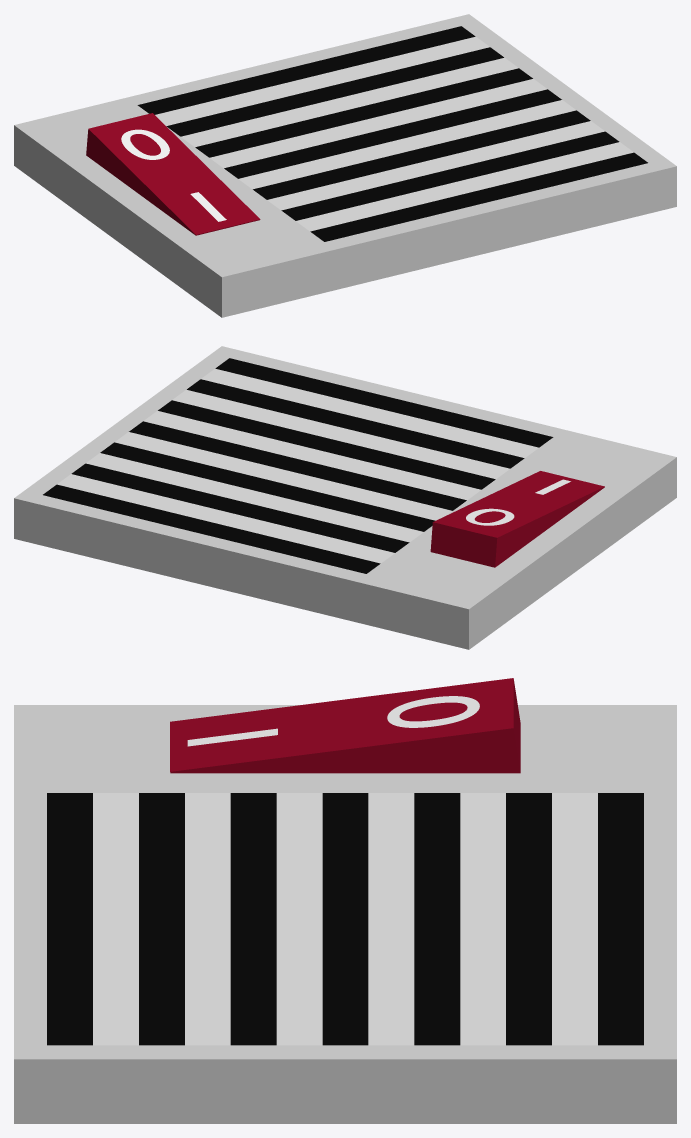
File: fan.glb
3 views of the same model, one above another, from view 1: azimuth 30°, elevation 25°; view 2: azimuth 150°, elevation 25°; view 3: azimuth 270°, elevation 25° (orthographic). The views are drawn at different scales.
Visible parts, largest first — view 1: Gaps, Plane, Plane.001, Text.001; view 2: Gaps, Plane, Plane.001; view 3: Gaps, Plane, Plane.001, Text.001.
Boxes of the visible parts, bbox=[...] form: Gaps: bbox=[137, 26, 647, 241]; Plane: bbox=[14, 14, 676, 317]; Plane.001: bbox=[86, 113, 260, 235]; Text.001: bbox=[121, 129, 169, 159]; Gaps: bbox=[43, 358, 553, 573]; Plane: bbox=[14, 346, 676, 649]; Plane.001: bbox=[430, 471, 604, 567]; Gaps: bbox=[47, 793, 643, 1045]; Plane: bbox=[14, 705, 676, 1123]; Plane.001: bbox=[170, 678, 520, 773]; Text.001: bbox=[387, 696, 479, 727].
Size of the model in its own units: 2.53 by 0.3656 by 2.
